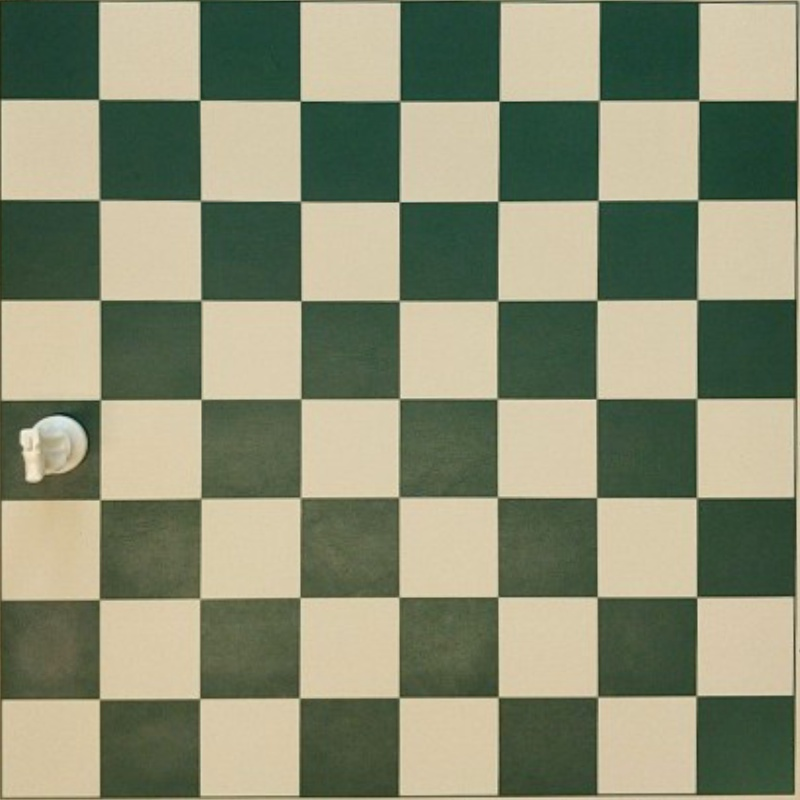white-knight: (16, 413, 88, 482)
